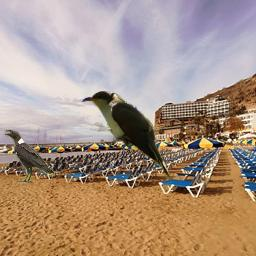Crow: (4, 129, 55, 183)
Cuckoo: (80, 91, 169, 180)
